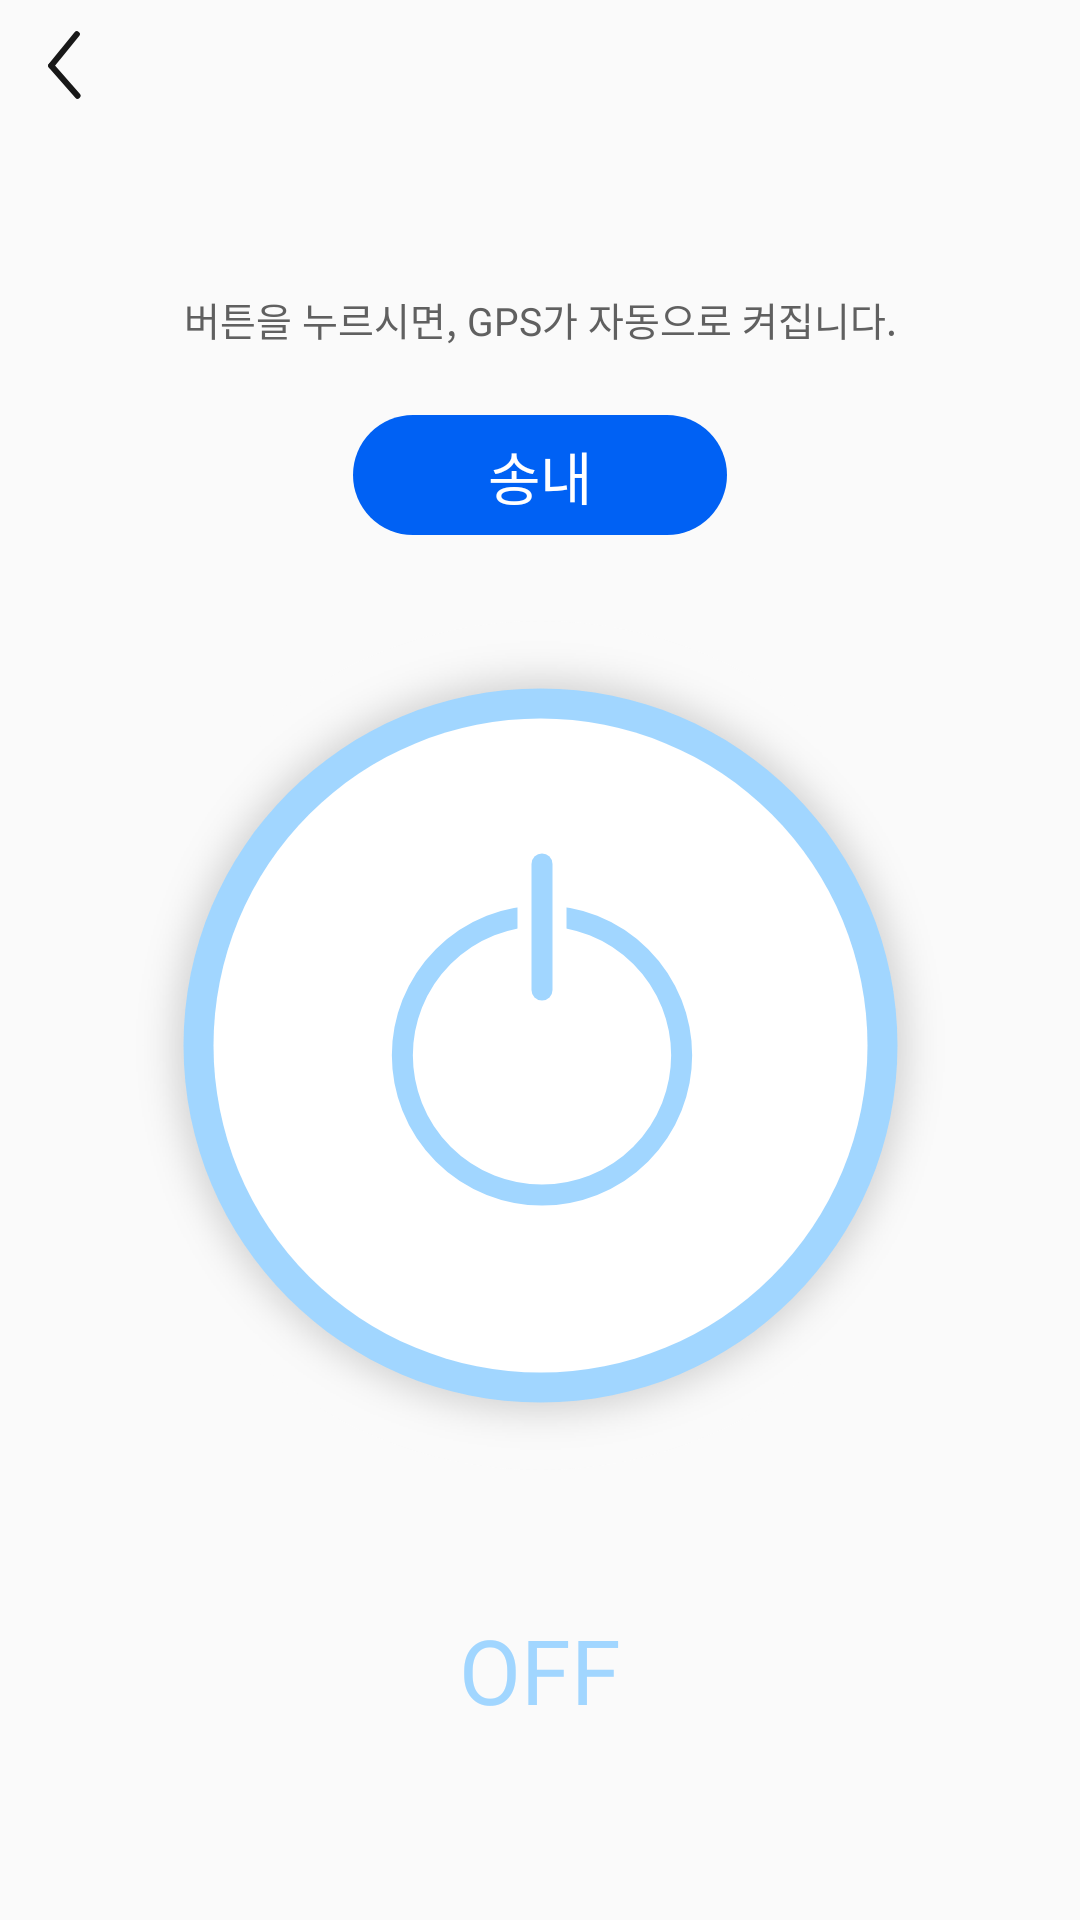

Point at icon controls on the screen. Image size 1080w x 1920h, points as (x,y).
back arrow: (64,65)
